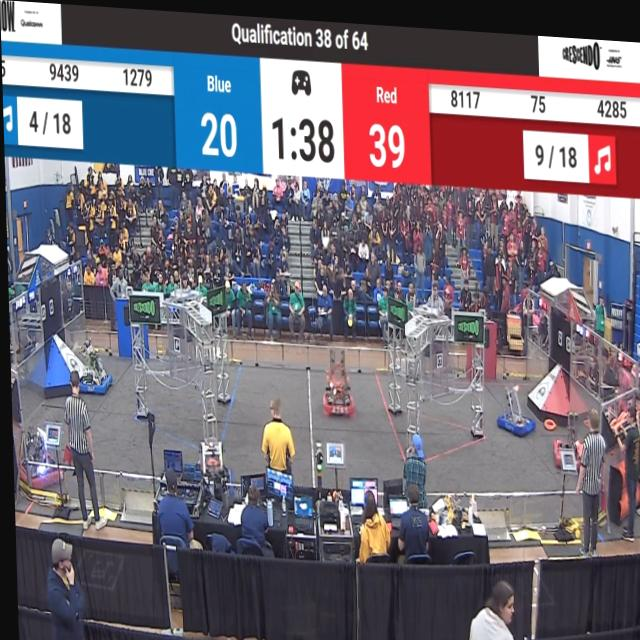Robot: (15, 413, 62, 491), (319, 342, 355, 419), (491, 370, 531, 434), (74, 338, 110, 400), (549, 400, 584, 463), (191, 426, 227, 478)
